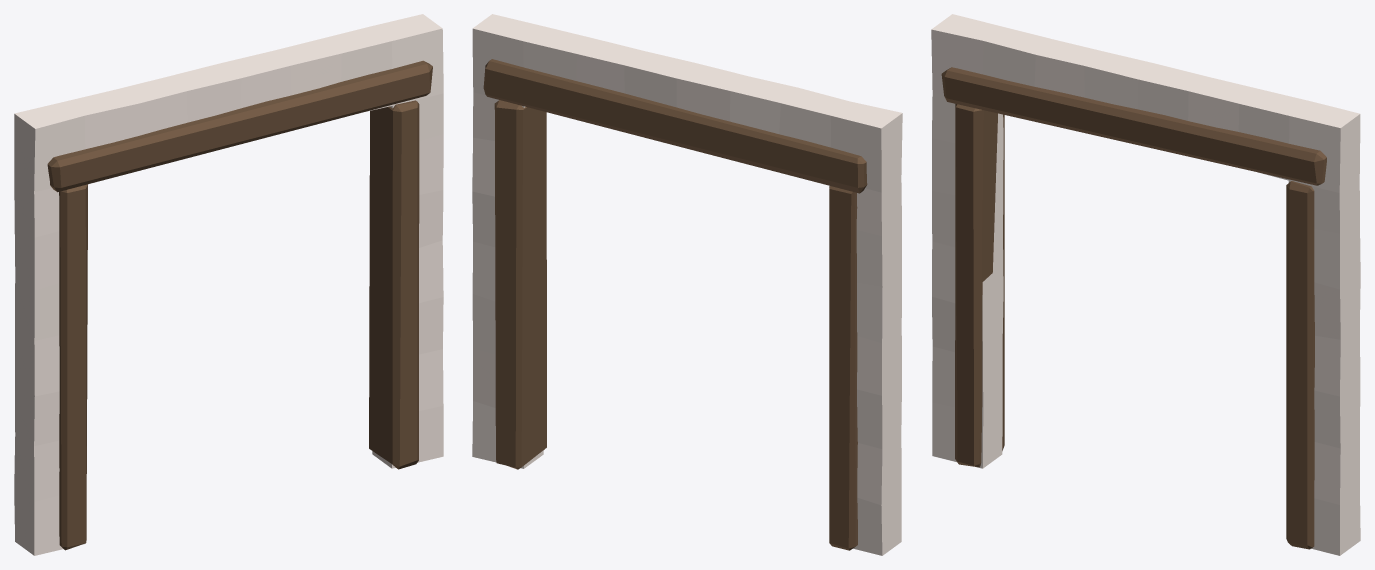
Rendered from PKX_Wall_Int_Arch.fbx.
3 views of the same model, side by side, from view 1: azimuth 30°, elevation 25°; view 2: azimuth 150°, elevation 25°; view 3: azimuth 330°, elevation 25° (orthographic).
Visible parts, largest first — view 1: PKX_Wall_Int_Arch; view 2: PKX_Wall_Int_Arch; view 3: PKX_Wall_Int_Arch.
Part boxes in pixels (x1,y1,x2,y2): PKX_Wall_Int_Arch: (14, 14, 443, 555); PKX_Wall_Int_Arch: (472, 14, 902, 555); PKX_Wall_Int_Arch: (931, 14, 1360, 555).
Bounding box in the file's own units: 200 × 200 × 27.85.
